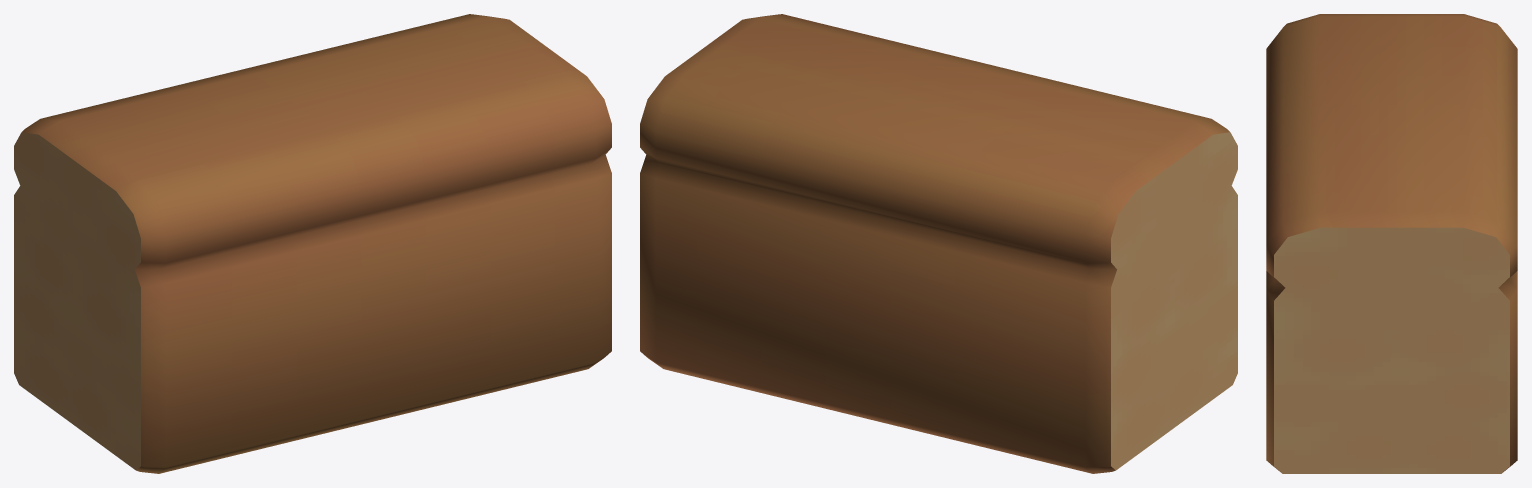
The model's file is bread-loaf.glb.
3 renders of one model, left to right at view 1: azimuth 30°, elevation 25°; view 2: azimuth 150°, elevation 25°; view 3: azimuth 270°, elevation 25°, orthographic. The views are drawn at different scales.
Parts seen in each view (by area): view 1: Cube; view 2: Cube; view 3: Cube.
Boxes of the visible parts, x1=… form: Cube: x1=14, y1=14, x2=611, y2=473; Cube: x1=640, y1=14, x2=1237, y2=473; Cube: x1=1266, y1=14, x2=1517, y2=473.
Bounding box in the file's own units: 0.2412 × 0.1369 × 0.12.
Materials: 1 (1 with a texture image).
